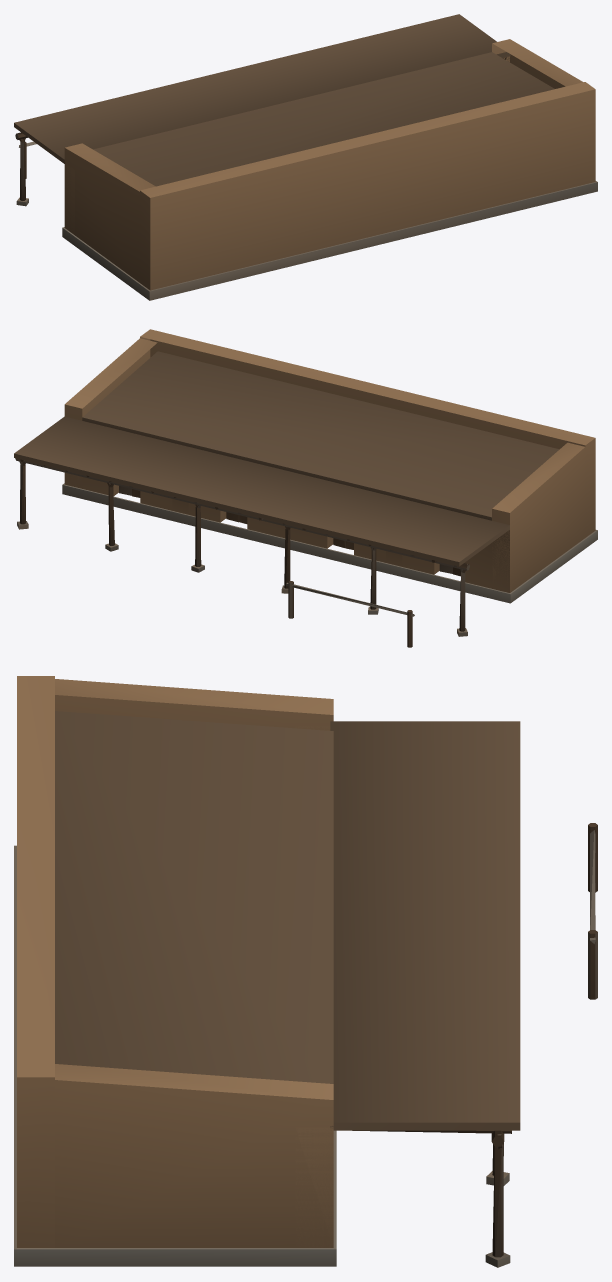
The model's file is casa_posta_a_lod.glb.
The picture shows the model from 3 angles, top to bottom: view 1: azimuth 30°, elevation 25°; view 2: azimuth 150°, elevation 25°; view 3: azimuth 270°, elevation 25°; orthographic projection. The views are drawn at different scales.
Visible parts, largest first — view 1: casa_posta_a; view 2: casa_posta_a; view 3: casa_posta_a.
Boxes of the visible parts, left/top/right/bottom form: casa_posta_a: left=14, top=14, right=597, bottom=300; casa_posta_a: left=14, top=329, right=597, bottom=647; casa_posta_a: left=14, top=676, right=597, bottom=1267.
Bounding box in the file's own units: 15.22 × 3.28 × 9.23.
